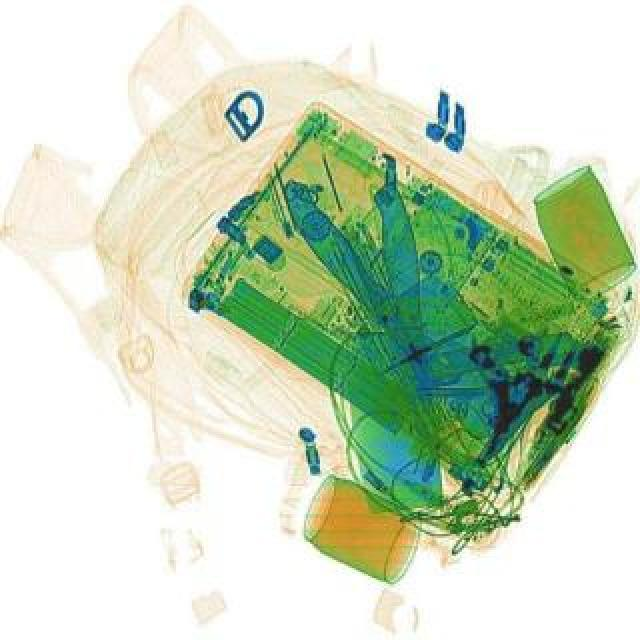knife: (264, 150, 552, 452), (312, 178, 456, 514)
